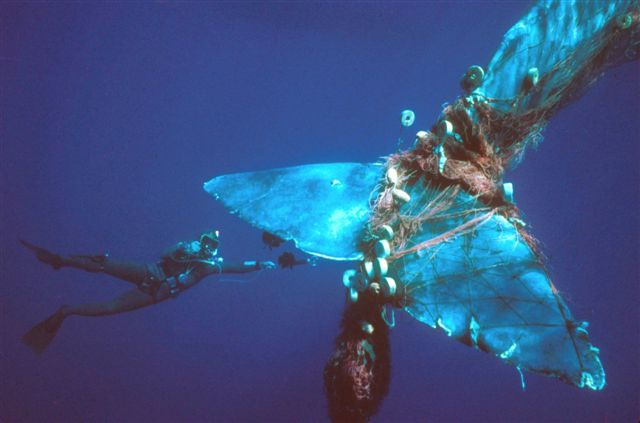litter: (318, 289, 409, 422), (381, 135, 524, 202), (388, 209, 517, 260), (370, 164, 413, 207), (464, 64, 489, 91), (379, 276, 403, 299), (357, 256, 377, 280), (335, 270, 360, 288), (401, 107, 417, 128), (526, 62, 540, 86)
